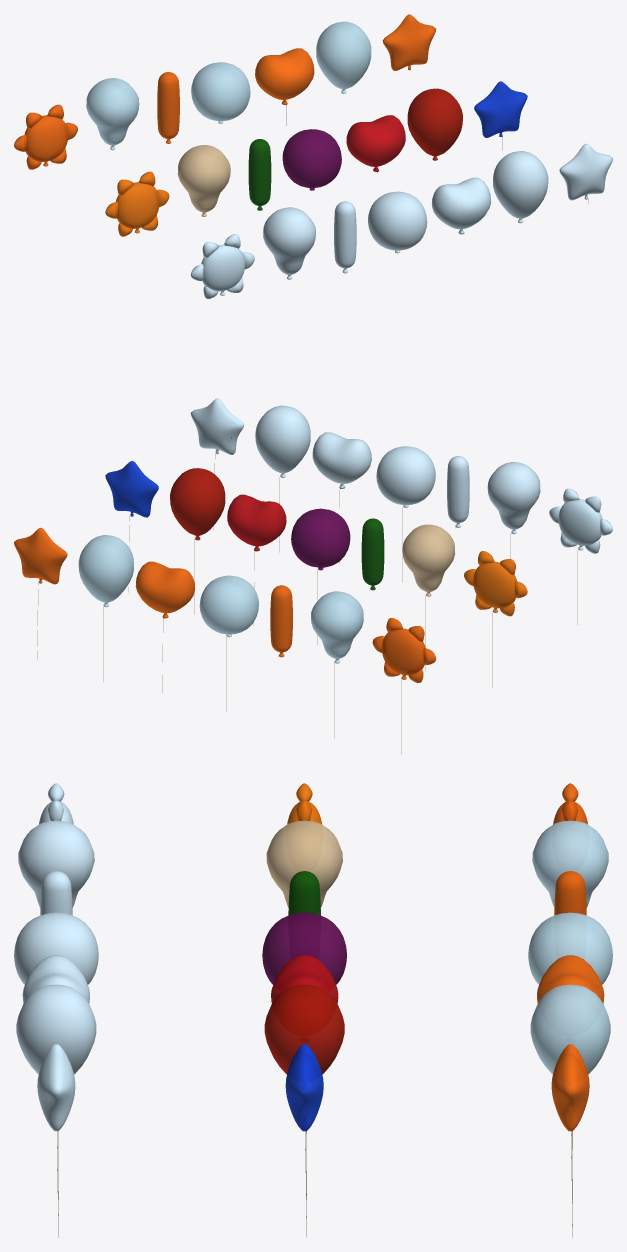
Rendered from air balloons.obj.
The picture shows the model from 3 angles, top to bottom: view 1: azimuth 30°, elevation 25°; view 2: azimuth 150°, elevation 25°; view 3: azimuth 270°, elevation 25°; orthographic projection. The views are drawn at different scales.
Parts seen in each view (by area): view 1: Cube.043_Cube.053, Cube.050_Cube.060, Cube.033_Cube.043, Cube.053_Cube.063, Cube.046_Cube.056, Cube.036_Cube.046, Cube.035_Cube.045, Cube.045_Cube.055, Cube.052_Cube.062, Cube.049_Cube.059, Cube.056_Cube.066, Cube.041_Cube.051 (+9 smaller); view 2: Cube.050_Cube.060, Cube.043_Cube.053, Cube.033_Cube.043, Cube.053_Cube.063, Cube.036_Cube.046, Cube.046_Cube.056, Cube.052_Cube.062, Cube.045_Cube.055, Cube.035_Cube.045, Cube.041_Cube.051, Cube.056_Cube.066, Cube.049_Cube.059 (+9 smaller); view 3: Cube.043_Cube.053, Cube.033_Cube.043, Cube.050_Cube.060, Cube.035_Cube.045, Cube.045_Cube.055, Cube.052_Cube.062, Cube.036_Cube.046, Cube.053_Cube.063, Cube.046_Cube.056, Cube.051_Cube.061, Cube.034_Cube.044, Cube.044_Cube.054 (+9 smaller).
Boxes of the visible parts, x1=… form: Cube.043_Cube.053: x1=407, y1=88, x2=462, y2=160; Cube.050_Cube.060: x1=316, y1=21, x2=371, y2=93; Cube.033_Cube.043: x1=493, y1=151, x2=548, y2=223; Cube.053_Cube.063: x1=191, y1=62, x2=250, y2=123; Cube.046_Cube.056: x1=282, y1=129, x2=341, y2=190; Cube.036_Cube.046: x1=368, y1=191, x2=427, y2=253; Cube.035_Cube.045: x1=263, y1=207, x2=315, y2=279; Cube.045_Cube.055: x1=177, y1=145, x2=230, y2=216; Cube.052_Cube.062: x1=86, y1=78, x2=139, y2=150; Cube.049_Cube.059: x1=105, y1=171, x2=169, y2=236; Cube.056_Cube.066: x1=14, y1=104, x2=77, y2=169; Cube.041_Cube.051: x1=190, y1=234, x2=254, y2=298; Cube.050_Cube.060: x1=78, y1=535, x2=133, y2=681; Cube.043_Cube.053: x1=170, y1=468, x2=225, y2=614; Cube.033_Cube.043: x1=255, y1=405, x2=310, y2=552; Cube.053_Cube.063: x1=199, y1=575, x2=258, y2=711; Cube.036_Cube.046: x1=376, y1=446, x2=435, y2=582; Cube.046_Cube.056: x1=291, y1=508, x2=350, y2=644; Cube.052_Cube.062: x1=311, y1=591, x2=363, y2=737; Cube.045_Cube.055: x1=402, y1=524, x2=455, y2=670; Cube.035_Cube.045: x1=487, y1=462, x2=540, y2=558; Cube.041_Cube.051: x1=549, y1=488, x2=612, y2=624; Cube.056_Cube.066: x1=372, y1=618, x2=436, y2=754; Cube.049_Cube.059: x1=464, y1=551, x2=527, y2=687; Cube.043_Cube.053: x1=264, y1=984, x2=344, y2=1199; Cube.033_Cube.043: x1=16, y1=984, x2=96, y2=1199; Cube.050_Cube.060: x1=530, y1=984, x2=610, y2=1199; Cube.035_Cube.045: x1=18, y1=820, x2=94, y2=907; Cube.045_Cube.055: x1=266, y1=820, x2=342, y2=907; Cube.052_Cube.062: x1=532, y1=820, x2=608, y2=907; Cube.036_Cube.046: x1=14, y1=912, x2=98, y2=984; Cube.053_Cube.063: x1=528, y1=912, x2=612, y2=984; Cube.046_Cube.056: x1=262, y1=912, x2=346, y2=984; Cube.051_Cube.061: x1=551, y1=1044, x2=589, y2=1237; Cube.034_Cube.044: x1=37, y1=1044, x2=75, y2=1237; Cube.044_Cube.054: x1=285, y1=1044, x2=323, y2=1237.
Bounding box in the file's own units: 8.21 × 2.82 × 6.95.
